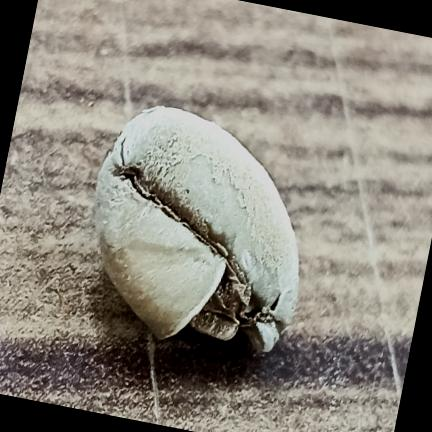broken: (95, 106, 299, 352)
